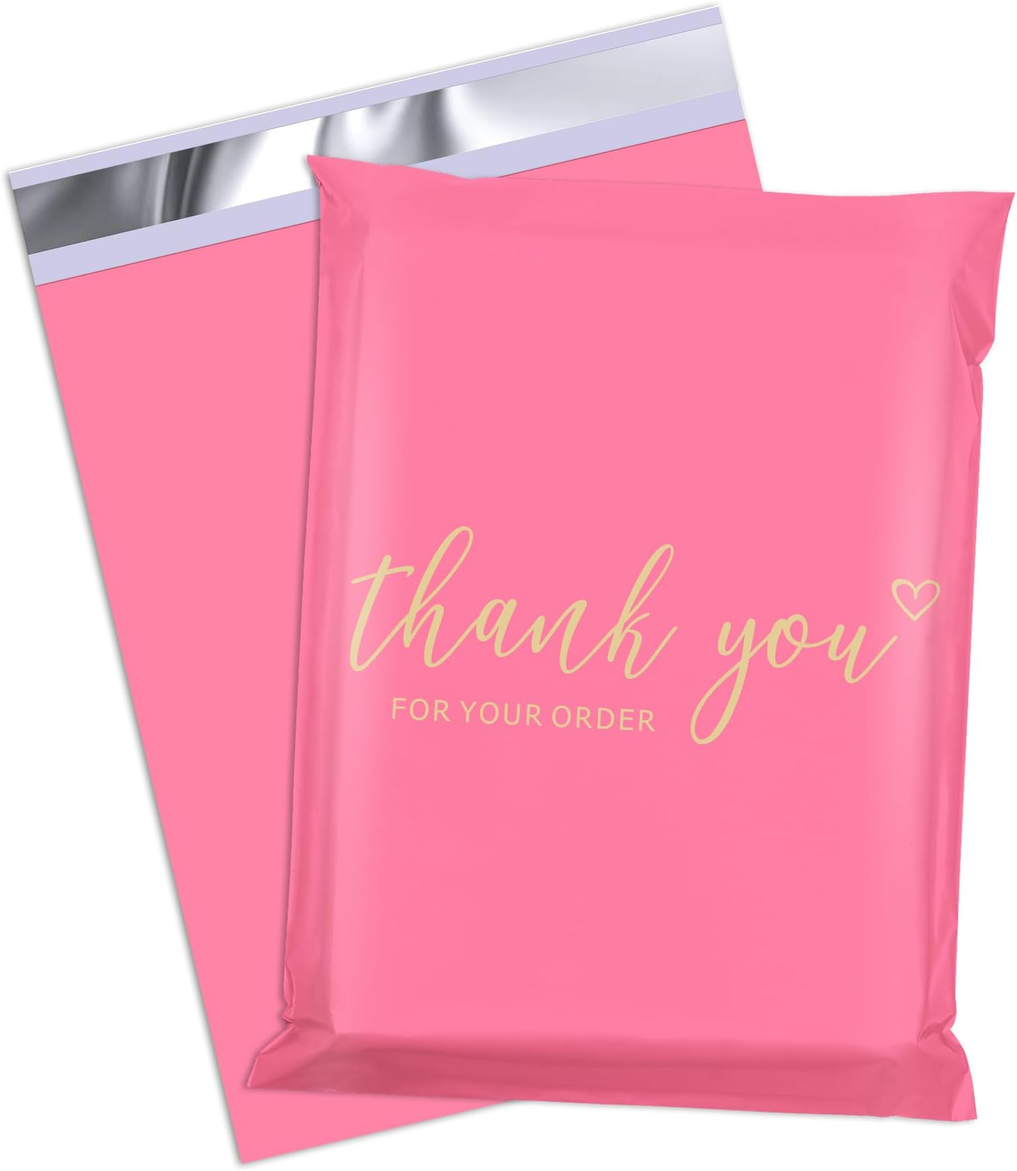塑料袋: (10, 16, 1013, 1161)
